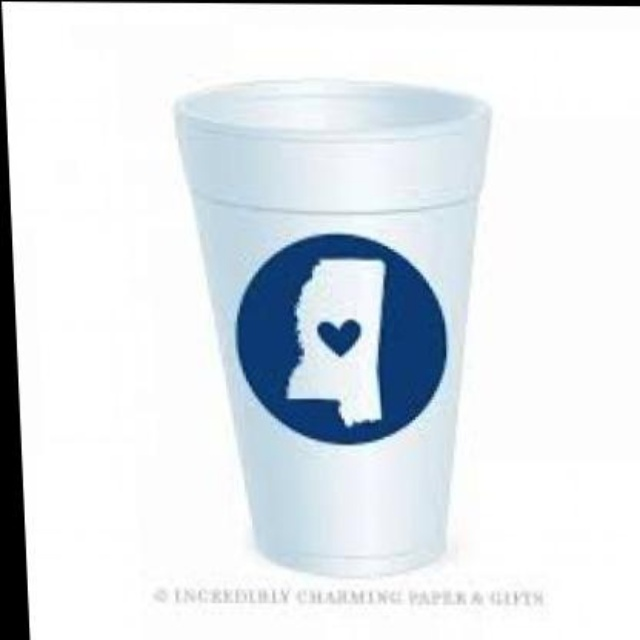trash: (175, 80, 488, 575)
